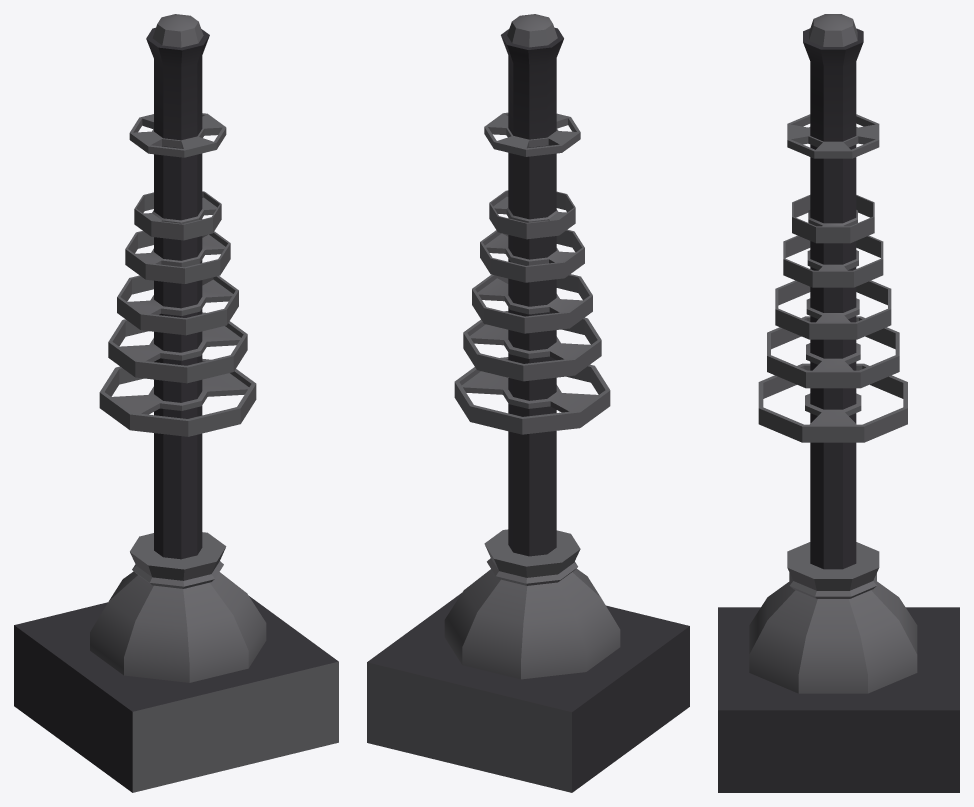
The model's file is on_the_roof1.fbx.
The picture shows the model from 3 angles, left to right: view 1: azimuth 30°, elevation 25°; view 2: azimuth 150°, elevation 25°; view 3: azimuth 270°, elevation 25°; orthographic projection. The views are drawn at different scales.
Parts seen in each view (by area): view 1: on_the_roof1; view 2: on_the_roof1; view 3: on_the_roof1.
Part boxes in pixels (box(x1,y1,x2,y2)): on_the_roof1: box(14, 14, 338, 792); on_the_roof1: box(367, 14, 689, 792); on_the_roof1: box(718, 14, 959, 792).
Size of the model in its own units: 110 by 362 by 109.
